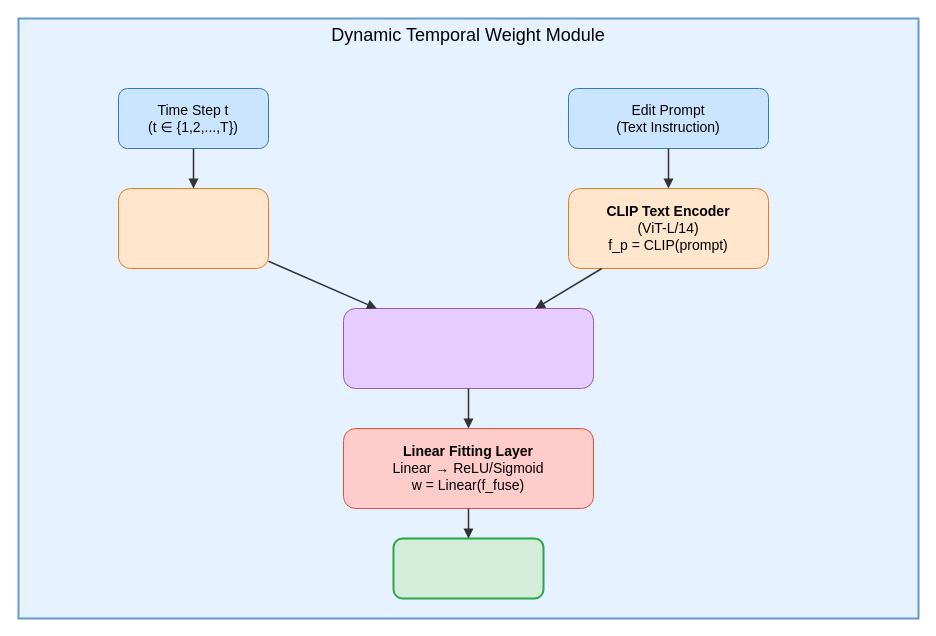
Some shapes in this 936 by 636 pixel diagram are drawn without their labels. Each missing label, with the centre of its shape:
"Dynamic Weight w (For Feature Modulation)" goes at (x=468, y=568).
"Feature Fusion Layer (Concat / Element-wise Add) f_fuse = [f_t; f_p]" goes at (x=468, y=348).
"Time Encoder (Formula 4-1) f_t = Enc(t)" goes at (x=193, y=228).
